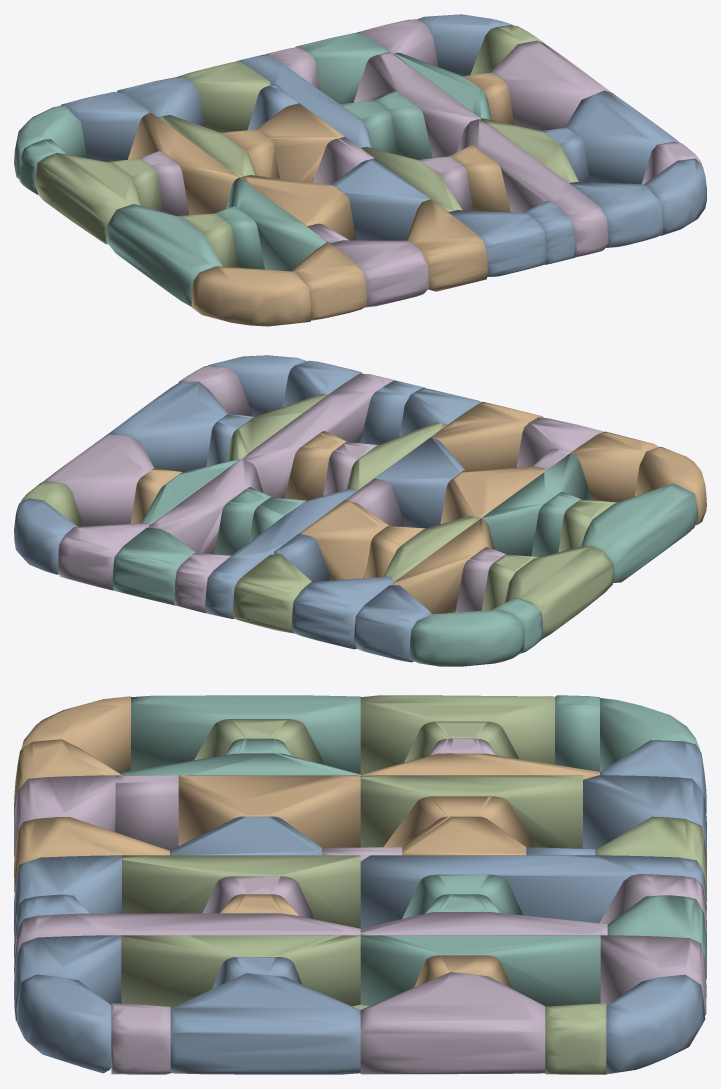
3 views of the same model, one above another, from view 1: azimuth 30°, elevation 25°; view 2: azimuth 150°, elevation 25°; view 3: azimuth 270°, elevation 25° (orthographic). The views are drawn at different scales.
Size of the model in its own units: 1.68 by 0.1756 by 1.46.
